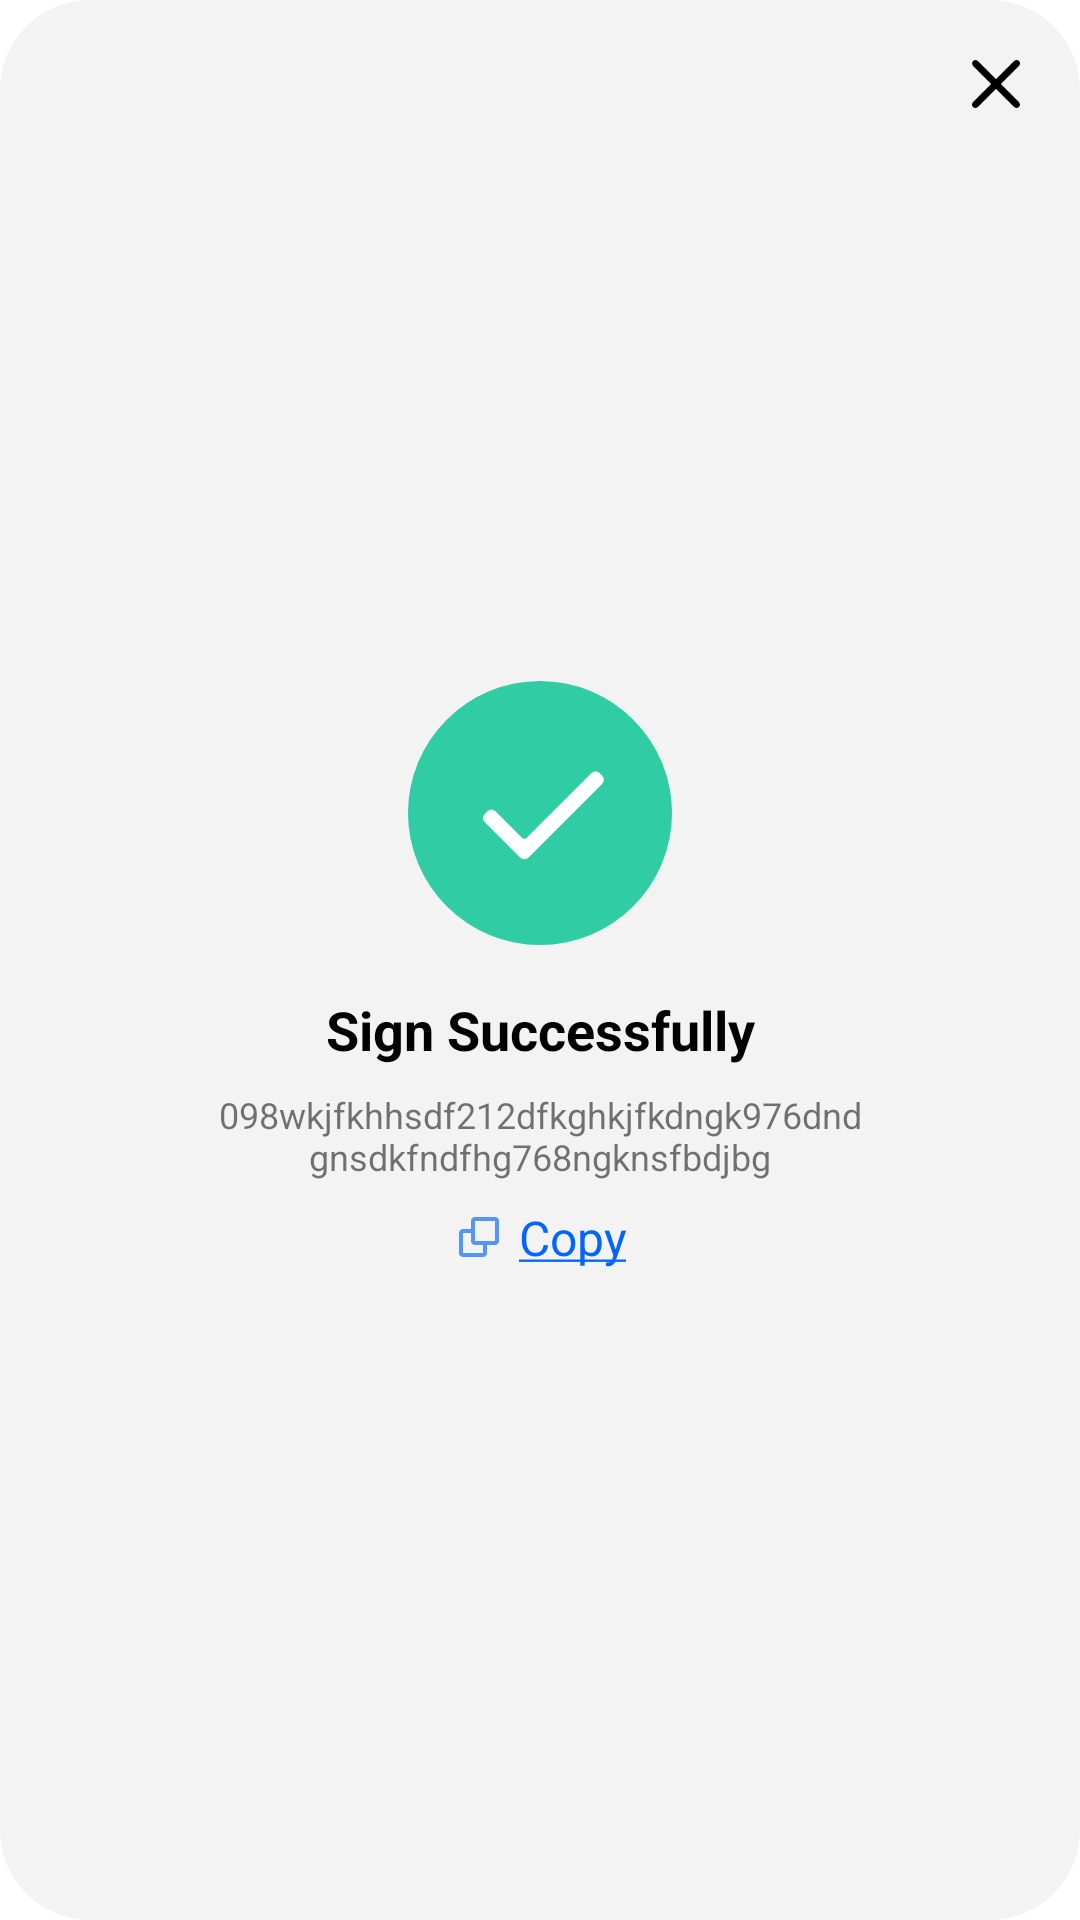

Icons on this 1080×1920 Android screen, each with the point to tap as (x,y):
close: (996,84)
transaction success: (540,813)
